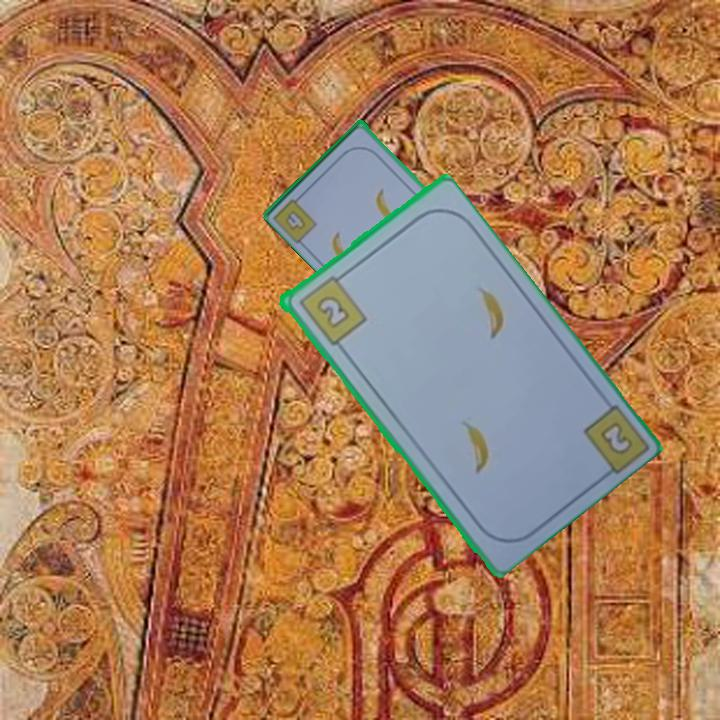2b: (294, 269, 369, 348), (599, 421, 632, 455)
4b: (271, 189, 321, 246)
